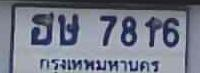1: (144, 16, 160, 46)
6: (162, 17, 178, 46)
7: (99, 15, 116, 45)
8: (120, 15, 136, 45)
A39: (57, 13, 78, 45)
A44: (30, 12, 53, 44)
BKK: (37, 55, 162, 73)
